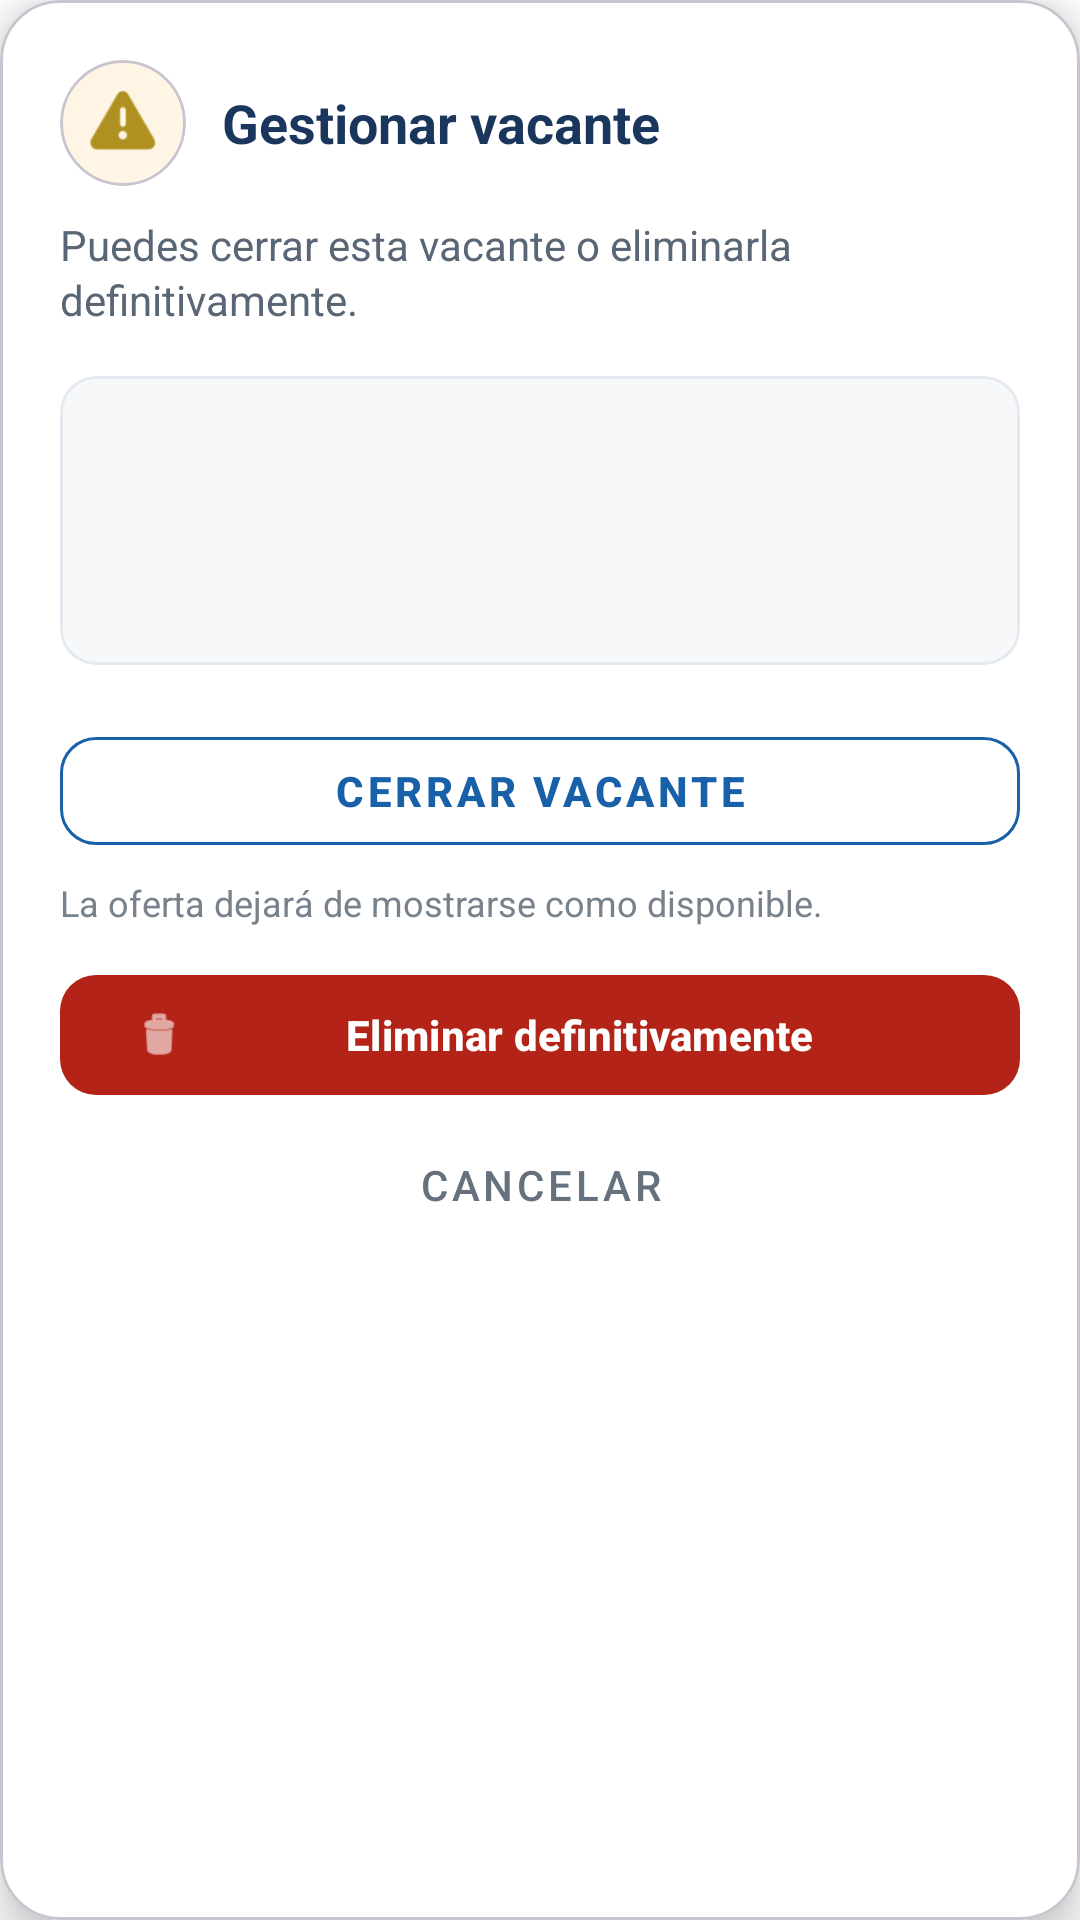

Icons on this 1080px×1920px Android screen, each with the point to tap as (x=x, y=y):
alert: (x=123, y=123)
